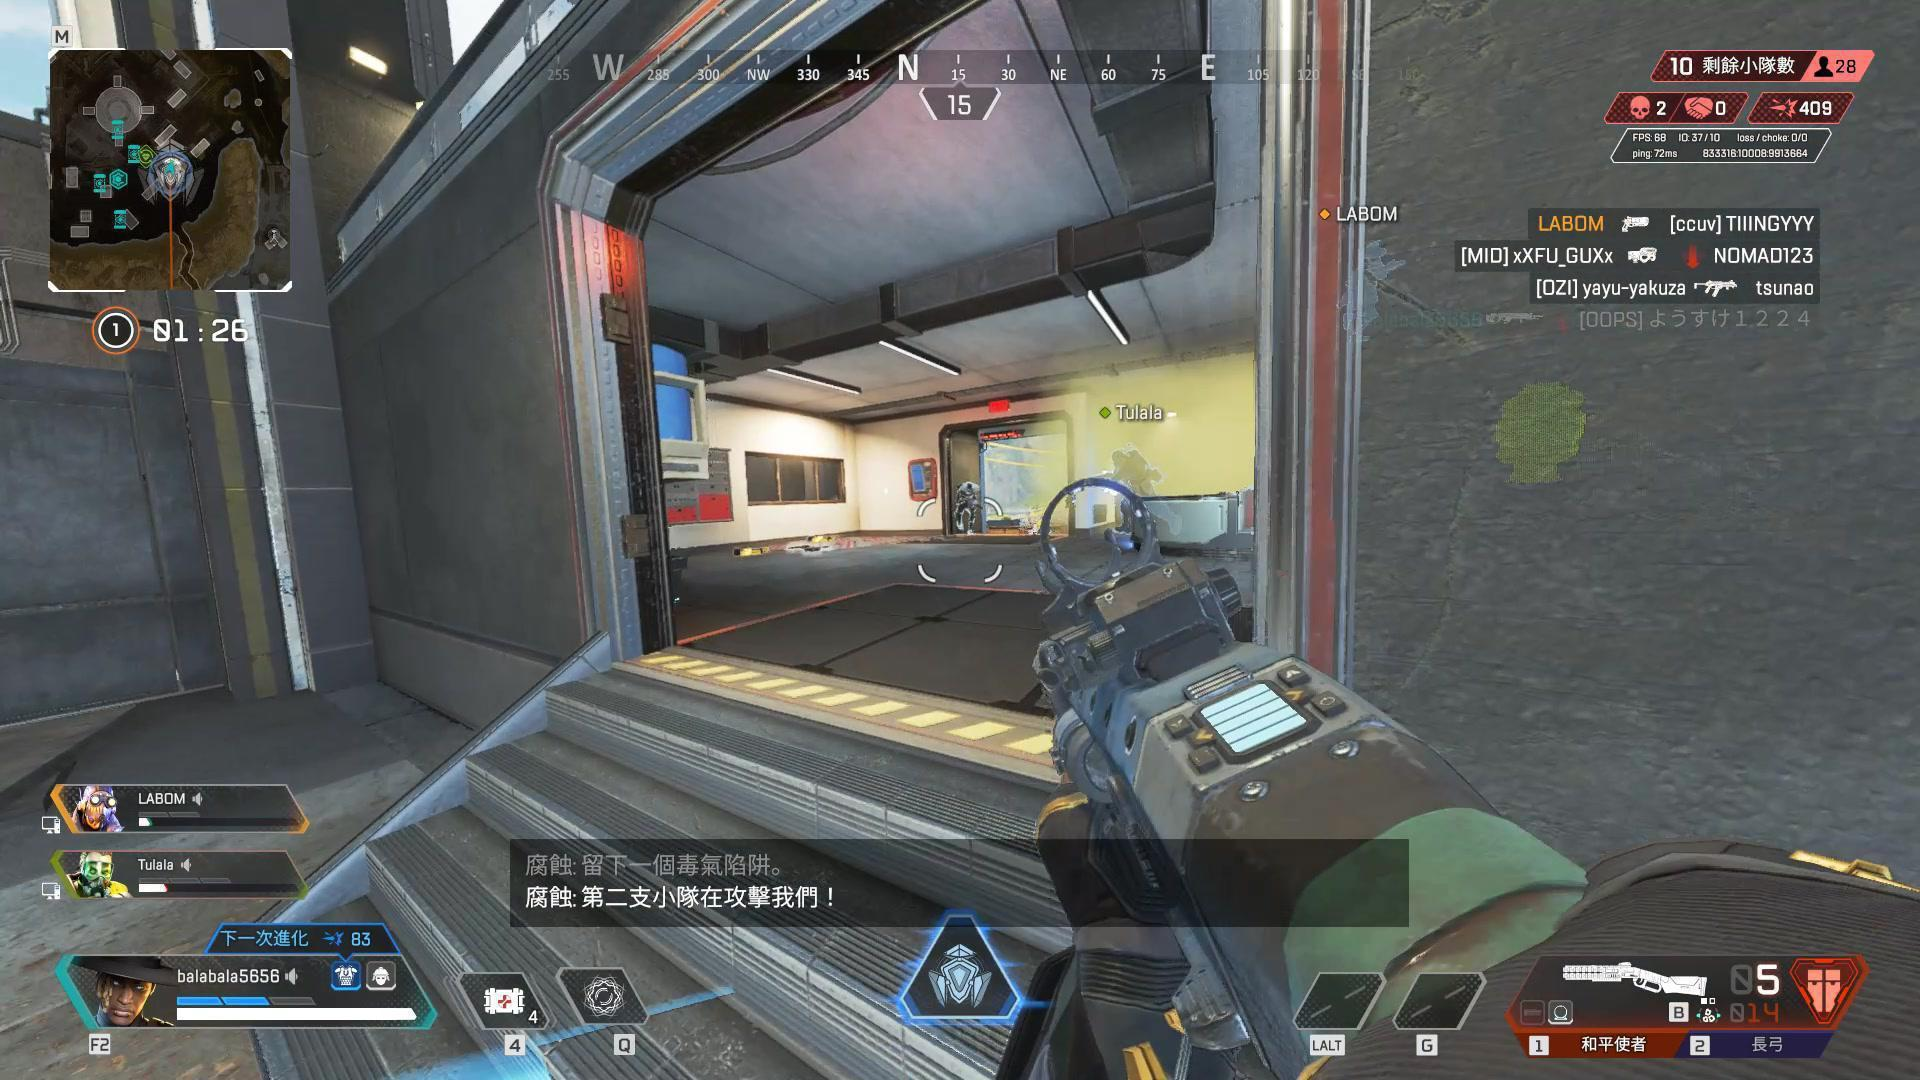avatar: (952, 481, 980, 533)
